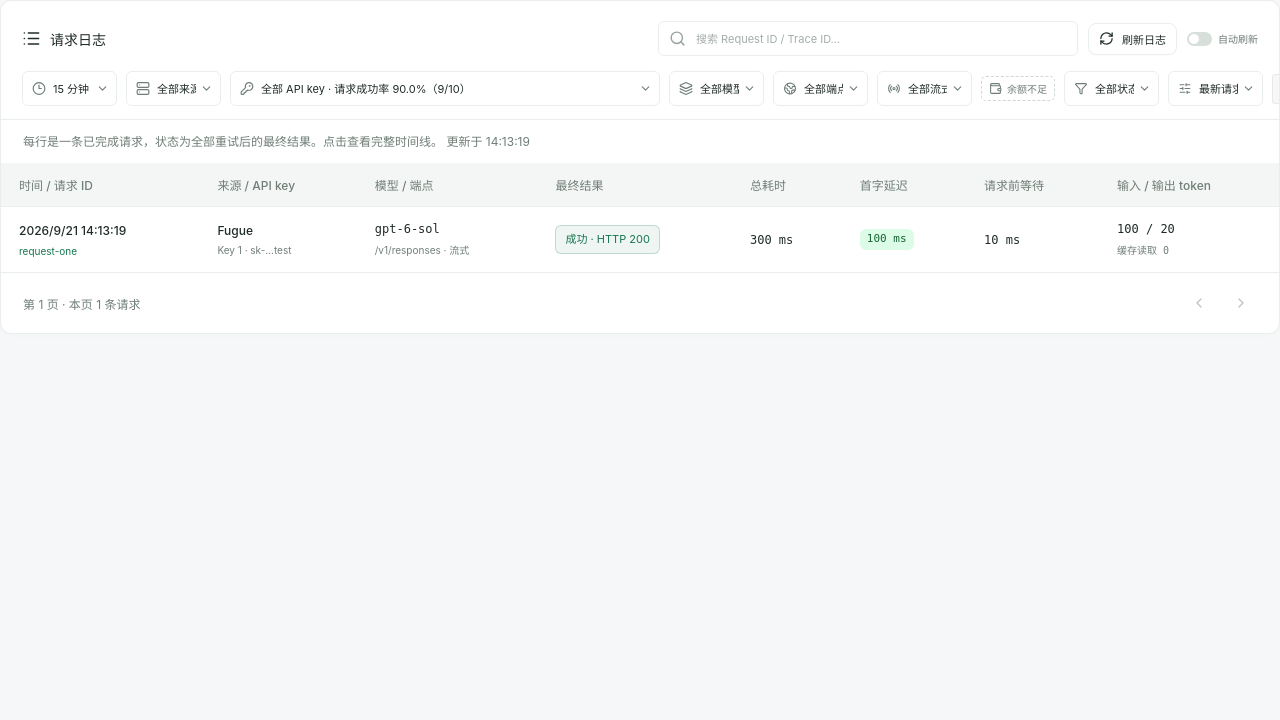
Test: a failed intent prefetch does not prevent an explicit click from retrying
Hover over the button "request-one": (48, 251) left=19, top=245, right=77, bottom=257
Click the button "request-one": (48, 251) left=19, top=245, right=77, bottom=257
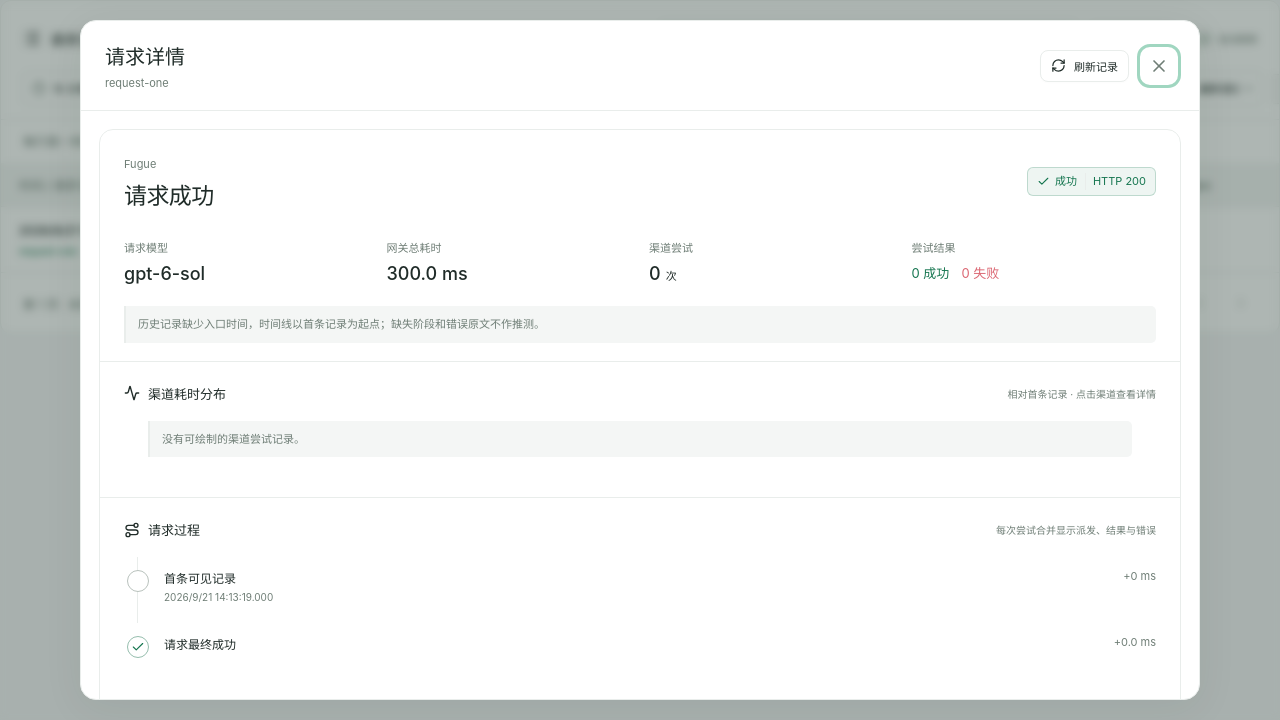
Now the heading "请求成功" is shown, box left=124, top=177, right=214, bottom=211
